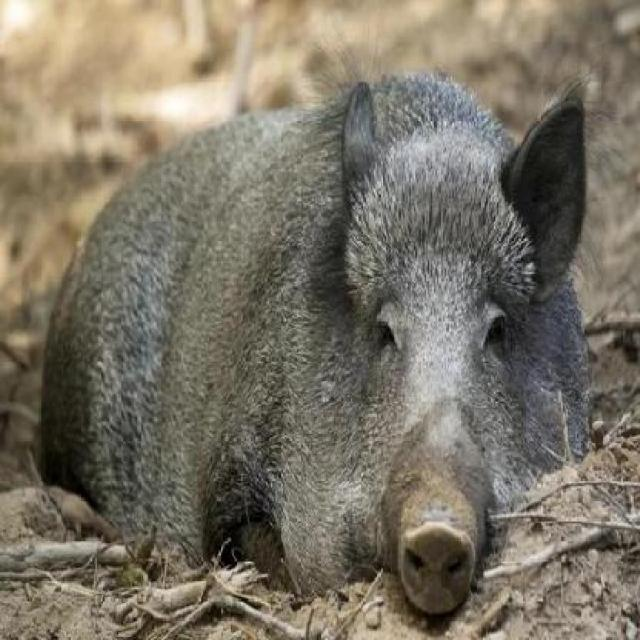wildboar: (31, 63, 595, 629)
